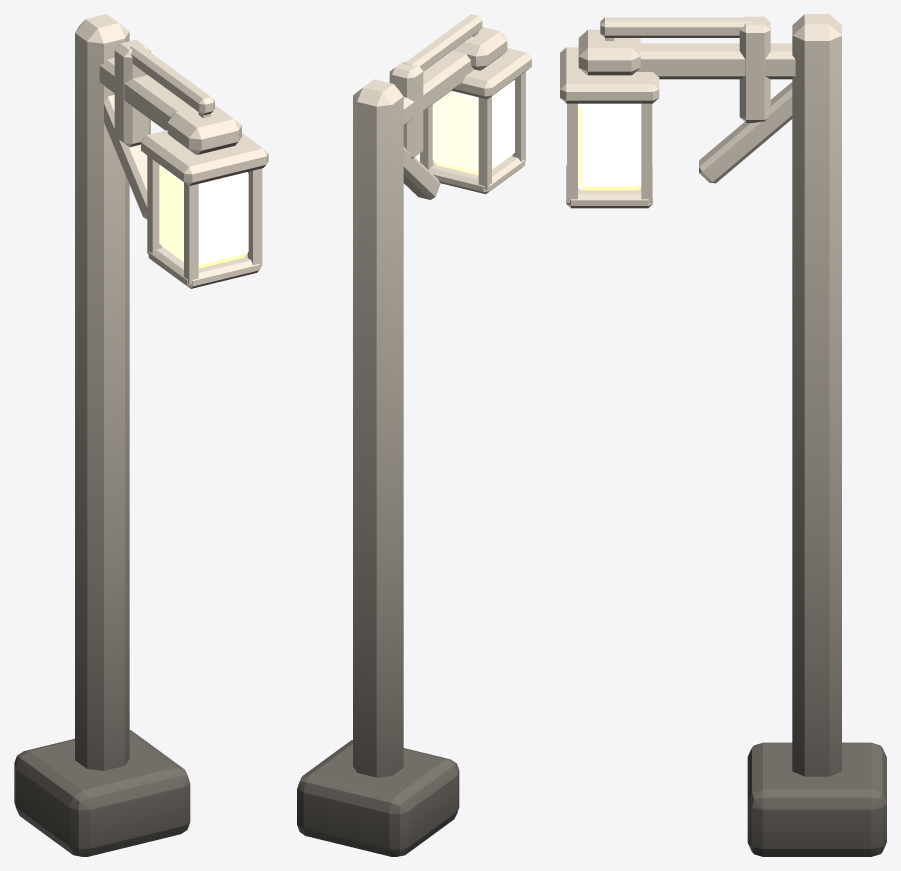
The model's file is SM_VK_Prop_LampPost.fbx.
3 views of the same model, side by side, from view 1: azimuth 30°, elevation 25°; view 2: azimuth 150°, elevation 25°; view 3: azimuth 270°, elevation 25° (orthographic). The views are drawn at different scales.
Parts seen in each view (by area): view 1: SM_VK_Prop_LampPost.001; view 2: SM_VK_Prop_LampPost.001; view 3: SM_VK_Prop_LampPost.001.
Part boxes in pixels (<box>): SM_VK_Prop_LampPost.001: <box>14,14,268,856</box>; SM_VK_Prop_LampPost.001: <box>297,14,531,856</box>; SM_VK_Prop_LampPost.001: <box>560,14,886,856</box>.
Size of the model in its own units: 0.45 by 2.9 by 1.05.
